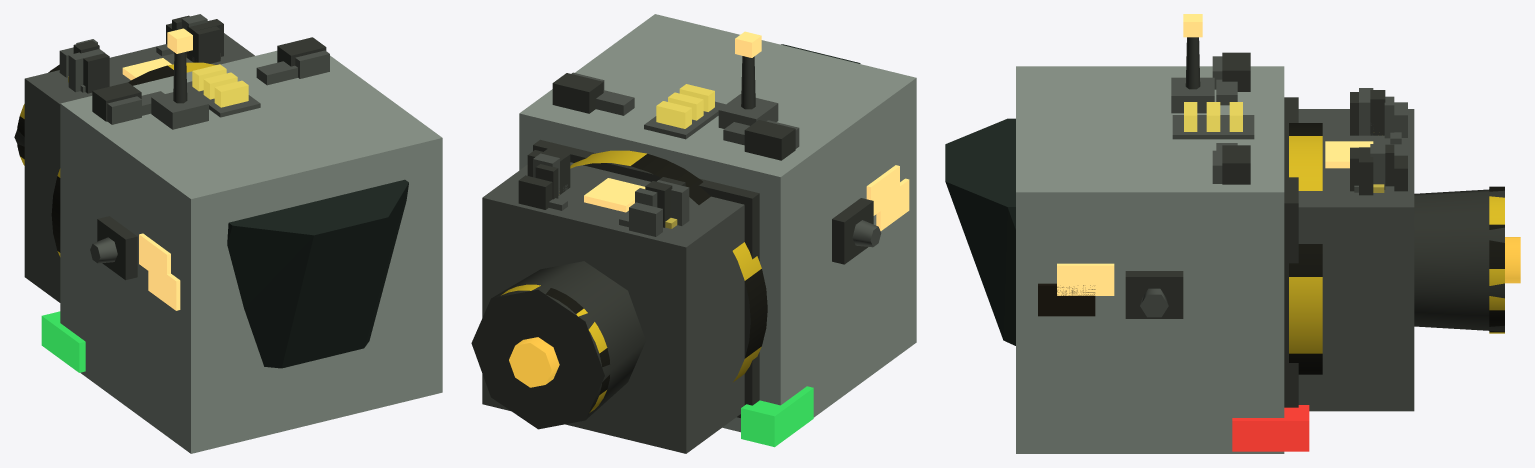
The model's file is escape_pod-s.glb.
The picture shows the model from 3 angles, left to right: view 1: azimuth 30°, elevation 25°; view 2: azimuth 150°, elevation 25°; view 3: azimuth 270°, elevation 25°; orthographic projection. The views are drawn at different scales.
Parts seen in each view (by area): view 1: hullNose, cockpitGlass, aftPlug, navLightStarboard, rcsQuad0, antennaBase, escapePodShipHullWindow1L, escapePodShipHullWindow0L, escapePodShipGreebleTop2L, escapePodShipAftGreeble4R, escapePodShipAftGreeble4L, escapePodShipGreebleTop2R (+15 smaller); view 2: hullNose, aftPlug, engineHousing, separationCollar, navLightStarboard, engineGlow, rcsQuad0, escapePodShipGreebleTop2L, escapePodShipGreebleTop2R, separationCautionSeg7, separationCautionSeg5, antennaBase (+19 smaller); view 3: hullNose, aftPlug, engineHousing, cockpitGlass, separationCollar, navLightPort, separationCautionSeg2, rcsQuad1, escapePodShipHullWindow0R, separationCautionSeg4, escapePodShipHullWindow1R, iffPlinthDorsal (+13 smaller).
Part boxes in pixels (x1,y1,x2,y2): hullNose: [60, 50, 442, 453]; cockpitGlass: [227, 179, 408, 368]; aftPlug: [24, 33, 254, 302]; navLightStarboard: [41, 311, 85, 372]; rcsQuad0: [97, 216, 137, 280]; antennaBase: [151, 88, 208, 129]; escapePodShipHullWindow1L: [148, 261, 180, 310]; escapePodShipHullWindow0L: [139, 233, 170, 283]; escapePodShipGreebleTop2L: [92, 82, 141, 121]; escapePodShipAftGreeble4R: [194, 26, 220, 63]; escapePodShipAftGreeble4L: [83, 53, 109, 93]; escapePodShipGreebleTop2R: [277, 37, 326, 66]; hullNose: [519, 14, 916, 432]; aftPlug: [482, 162, 744, 453]; engineHousing: [471, 261, 645, 429]; separationCollar: [533, 139, 759, 417]; navLightStarboard: [741, 386, 813, 447]; engineGlow: [509, 337, 559, 387]; rcsQuad0: [832, 198, 873, 264]; escapePodShipGreebleTop2L: [744, 120, 795, 160]; escapePodShipGreebleTop2R: [552, 73, 603, 113]; separationCautionSeg7: [745, 269, 767, 358]; separationCautionSeg5: [631, 153, 710, 204]; antennaBase: [718, 94, 778, 128]; hullNose: [1016, 66, 1284, 453]; aftPlug: [1298, 109, 1414, 411]; engineHousing: [1414, 189, 1504, 331]; cockpitGlass: [945, 118, 1015, 345]; separationCollar: [1284, 97, 1298, 407]; navLightPort: [1232, 405, 1309, 451]; separationCautionSeg2: [1289, 277, 1322, 353]; rcsQuad1: [1125, 271, 1183, 318]; escapePodShipHullWindow0R: [1057, 263, 1114, 295]; separationCautionSeg4: [1289, 136, 1322, 190]; escapePodShipHullWindow1R: [1038, 283, 1095, 316]; iffPlinthDorsal: [1172, 115, 1254, 139].
Size of the model in its own units: 0.76 by 0.7975 by 1.2.
